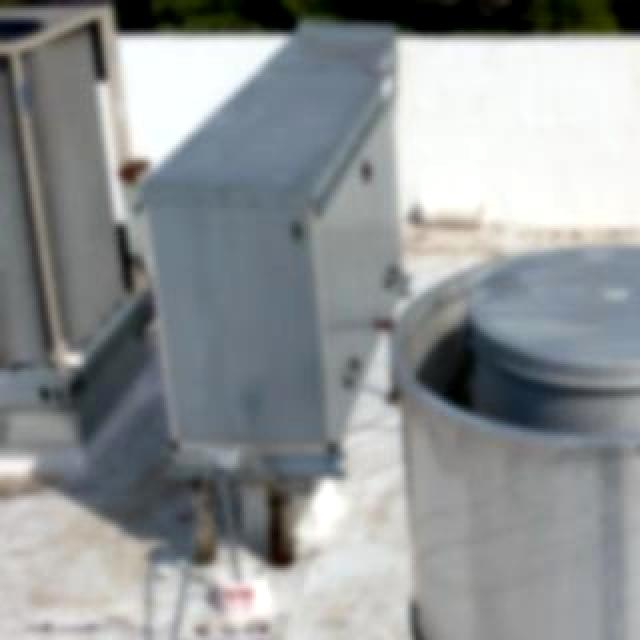GRAVITY-VENT: (386, 242, 640, 640)
SPLIT-SYSTEM: (152, 22, 408, 492), (0, 0, 170, 422)
